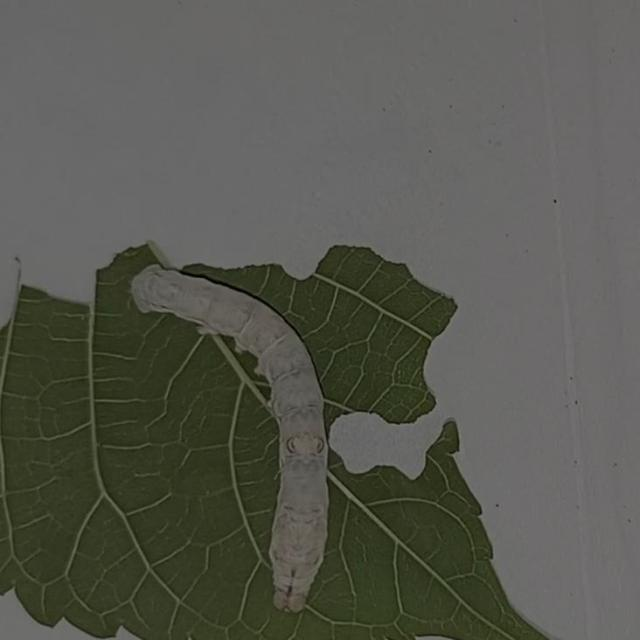Healthy: (120, 258, 342, 620)
